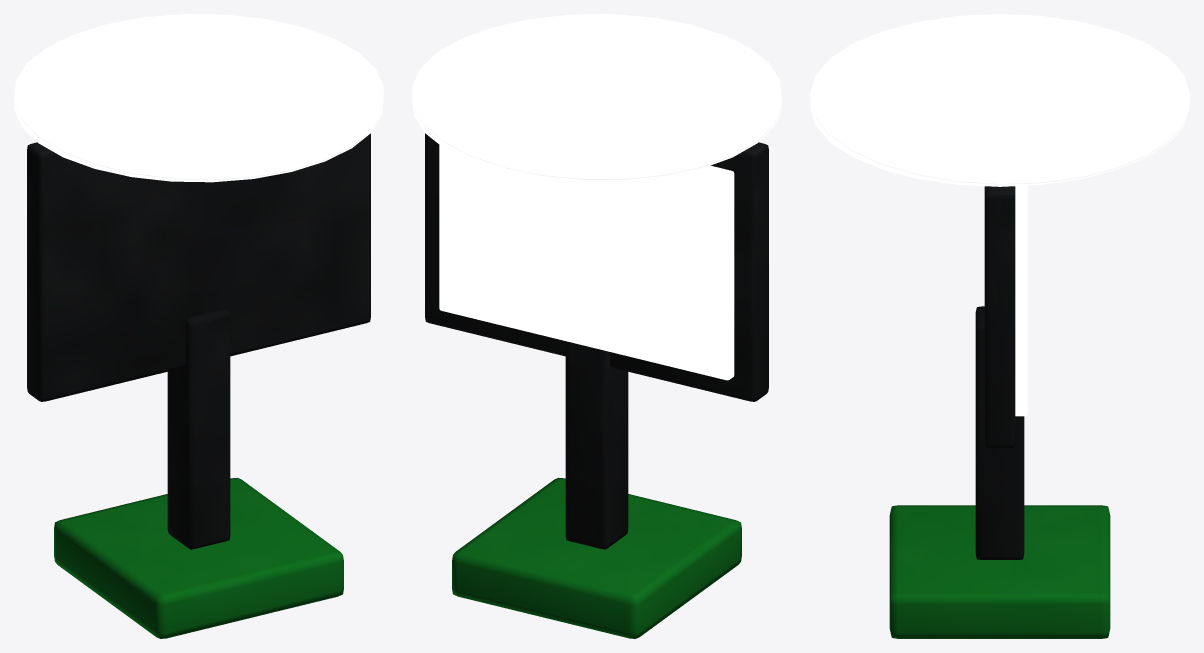
Rendered from pack.agentspace.ad.echt.01.glb.
3 views of the same model, side by side, from view 1: azimuth 30°, elevation 25°; view 2: azimuth 150°, elevation 25°; view 3: azimuth 270°, elevation 25° (orthographic). The views are drawn at different scales.
Parts seen in each view (by area): view 1: CompanyAdFrame.003, CompanyAdAccent.003, CompanyAdBase.003, CompanyAdStem.003; view 2: CompanyAdGlow.003, CompanyAdAccent.003, CompanyAdBase.003, CompanyAdFrame.003, CompanyAdStem.003; view 3: CompanyAdAccent.003, CompanyAdBase.003, CompanyAdFrame.003, CompanyAdStem.003, CompanyAdGlow.003.
Boxes of the visible parts, <box> form: CompanyAdFrame.003: <box>27,133,370,401</box>; CompanyAdAccent.003: <box>14,14,383,182</box>; CompanyAdBase.003: <box>54,477,343,638</box>; CompanyAdStem.003: <box>167,309,230,549</box>; CompanyAdGlow.003: <box>439,145,734,380</box>; CompanyAdAccent.003: <box>412,14,781,182</box>; CompanyAdBase.003: <box>452,477,741,638</box>; CompanyAdFrame.003: <box>425,133,768,401</box>; CompanyAdStem.003: <box>565,341,628,549</box>; CompanyAdAccent.003: <box>810,14,1189,186</box>; CompanyAdBase.003: <box>889,505,1110,638</box>; CompanyAdFrame.003: <box>984,186,1015,448</box>; CompanyAdStem.003: <box>975,306,1024,559</box>; CompanyAdGlow.003: <box>1015,185,1027,416</box>.
Size of the model in its own units: 1.28 by 1.8 by 1.24.
Materials: 6 (2 with a texture image).
